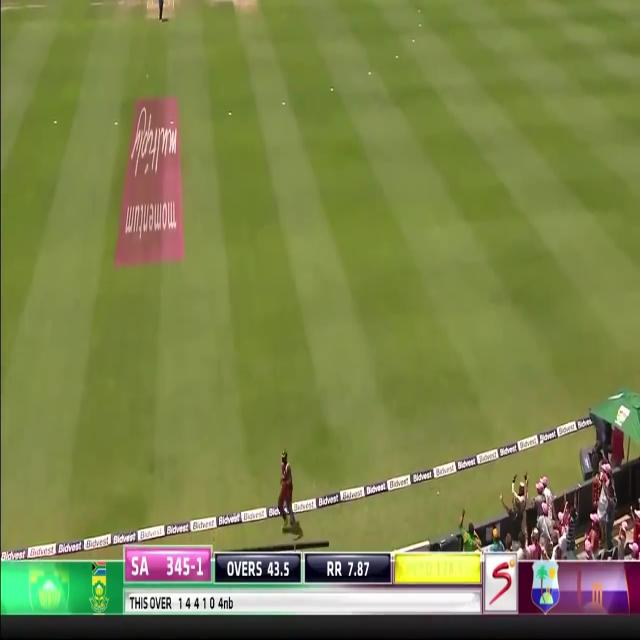Fielder: (274, 450, 296, 544)
